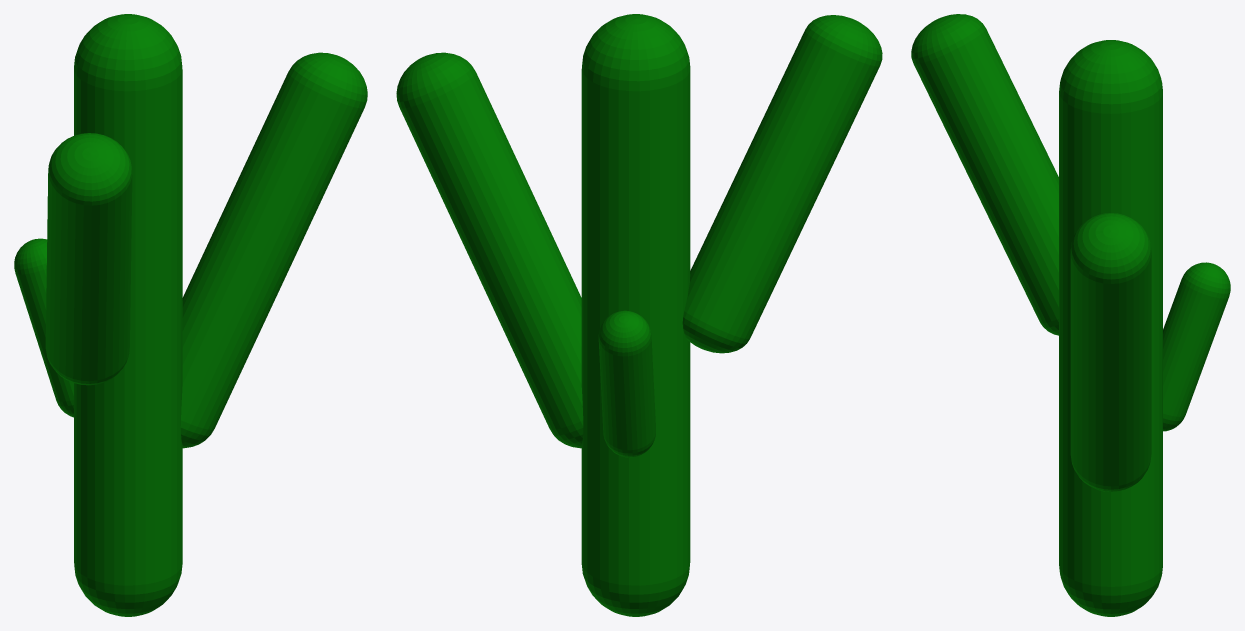
Rendered from Cactus.fbx.
The picture shows the model from 3 angles, left to right: view 1: azimuth 30°, elevation 25°; view 2: azimuth 150°, elevation 25°; view 3: azimuth 270°, elevation 25°; orthographic projection. The views are drawn at different scales.
Parts seen in each view (by area): view 1: Cactus; view 2: Cactus; view 3: Cactus.
Part boxes in pixels (x1,y1,x2,y2): Cactus: [14, 14, 367, 616]; Cactus: [396, 14, 882, 616]; Cactus: [911, 14, 1230, 616].
Size of the model in its own units: 56.52 by 81.75 by 41.72.
